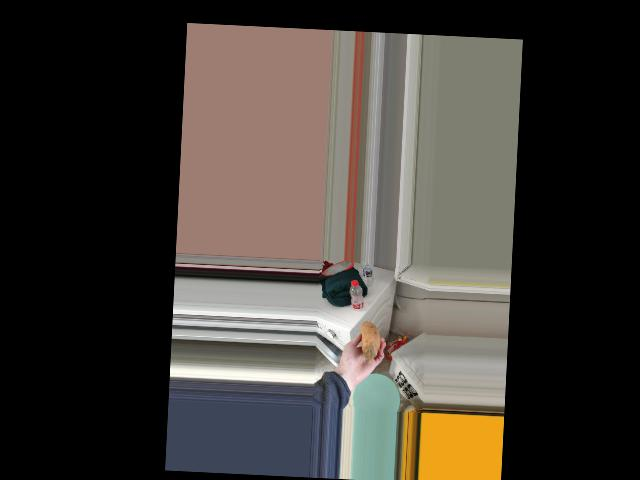sweet_potato: (356, 318, 378, 365)
